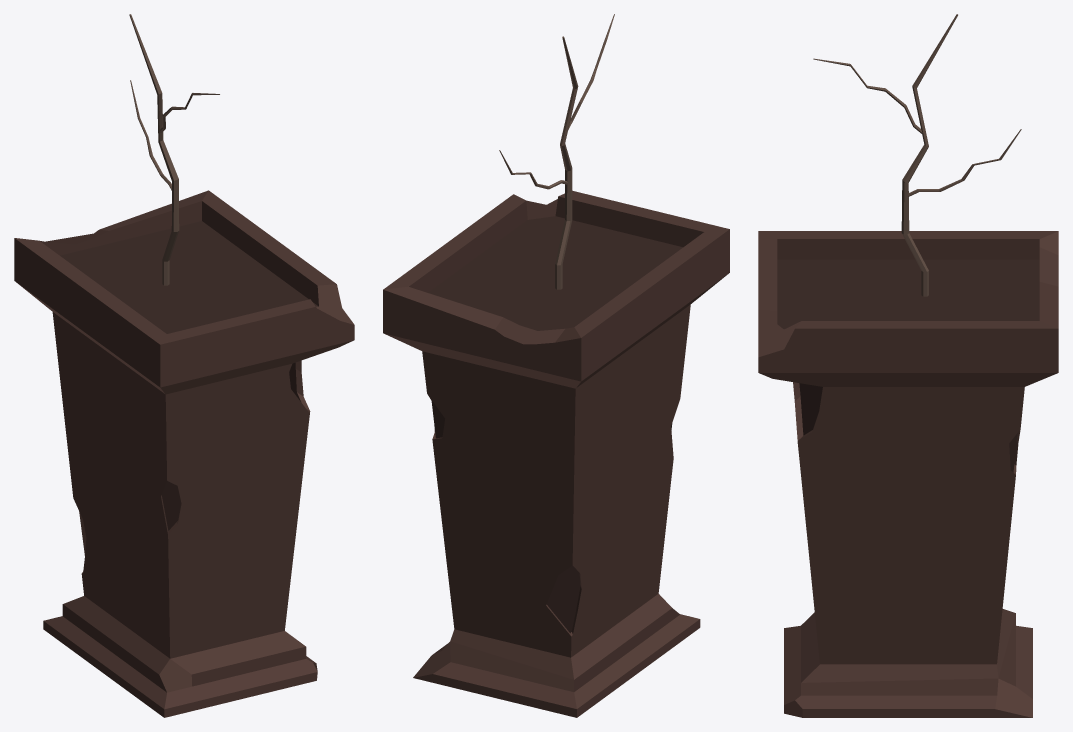
File: Big Pot with plant.fbx
The picture shows the model from 3 angles, left to right: view 1: azimuth 30°, elevation 25°; view 2: azimuth 150°, elevation 25°; view 3: azimuth 270°, elevation 25°; orthographic projection. The views are drawn at different scales.
Visible parts, largest first — view 1: Big Pot with Plant; view 2: Big Pot with Plant; view 3: Big Pot with Plant.
Part boxes in pixels (<box>): Big Pot with Plant: <box>14,14,354,717</box>; Big Pot with Plant: <box>383,14,729,717</box>; Big Pot with Plant: <box>758,14,1058,717</box>.
Size of the model in its own units: 157 by 485 by 204.
